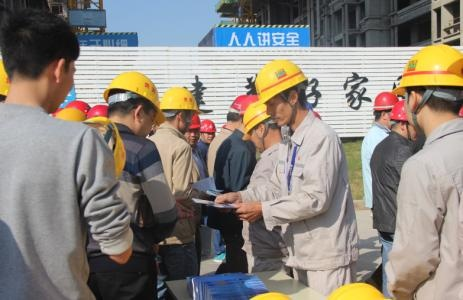none: (2, 7, 80, 118)
red: (390, 96, 419, 140), (372, 90, 398, 127), (182, 113, 201, 145), (199, 117, 217, 145)
yellow: (399, 43, 462, 139), (102, 68, 162, 143), (254, 58, 308, 129), (158, 81, 199, 133), (240, 97, 276, 155)
